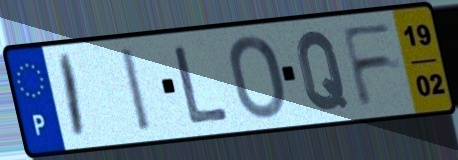F: (338, 19, 398, 111)
I: (117, 44, 156, 136), (57, 51, 88, 143)
L: (172, 43, 233, 126)
O: (226, 32, 289, 123)
Q: (294, 28, 351, 114)
